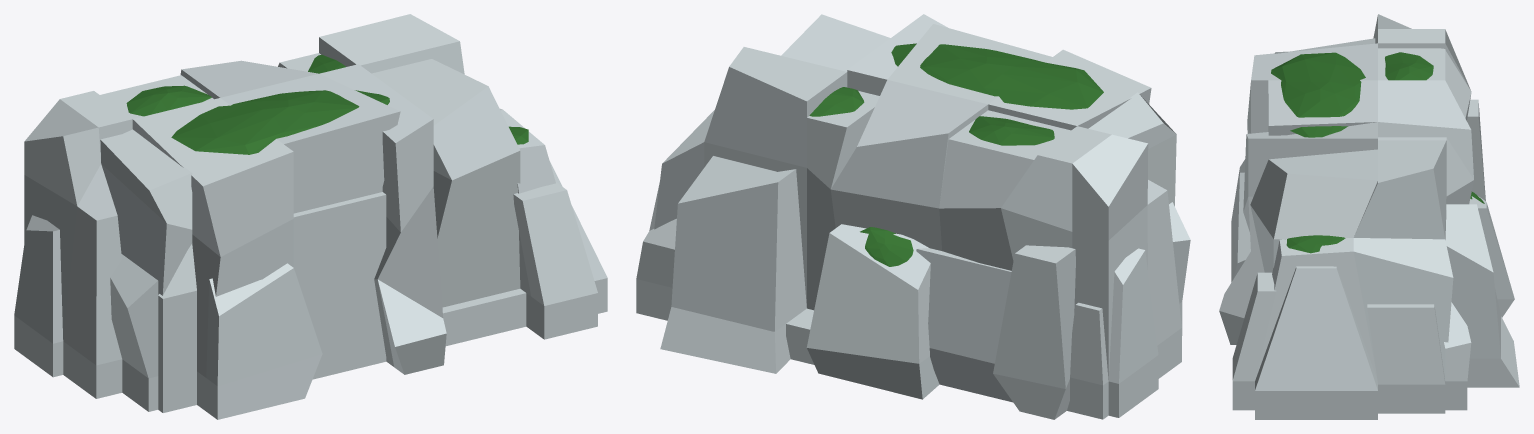
The model's file is Cliff2.fbx.
3 views of the same model, side by side, from view 1: azimuth 30°, elevation 25°; view 2: azimuth 150°, elevation 25°; view 3: azimuth 270°, elevation 25° (orthographic). The views are drawn at different scales.
Parts seen in each view (by area): view 1: Cube.012; view 2: Cube.012; view 3: Cube.012.
Boxes of the visible parts, bbox=[...] form: Cube.012: bbox=[14, 14, 607, 419]; Cube.012: bbox=[636, 14, 1190, 419]; Cube.012: bbox=[1219, 14, 1519, 419].
Size of the model in its own units: 4203 by 2042 by 2619.
